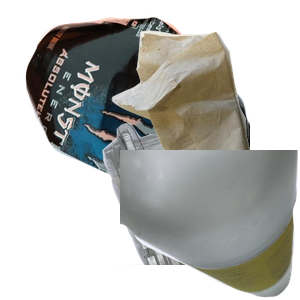glass: (120, 150, 300, 300)
metal: (23, 15, 263, 195)
plastic: (55, 120, 284, 300)
trash: (109, 28, 300, 208)
